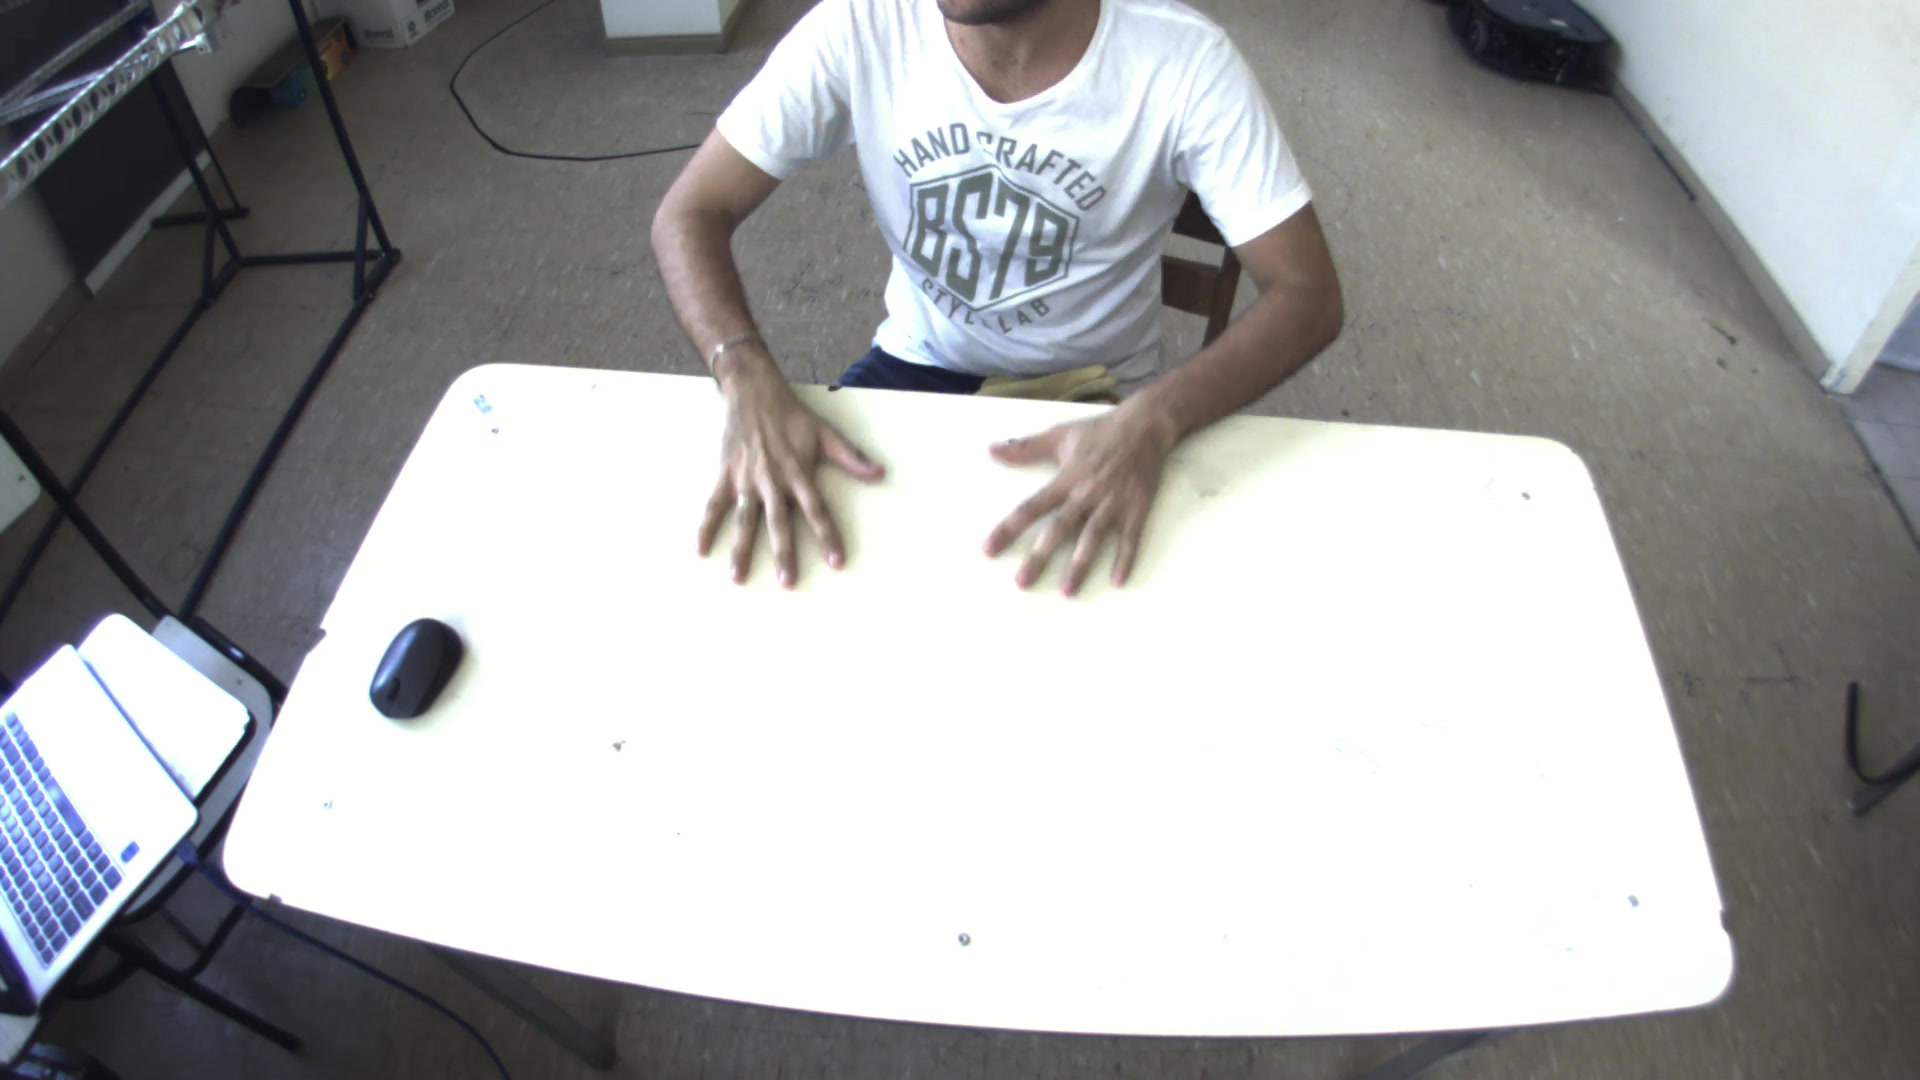hand: (688, 347, 893, 597), (971, 392, 1193, 604)
